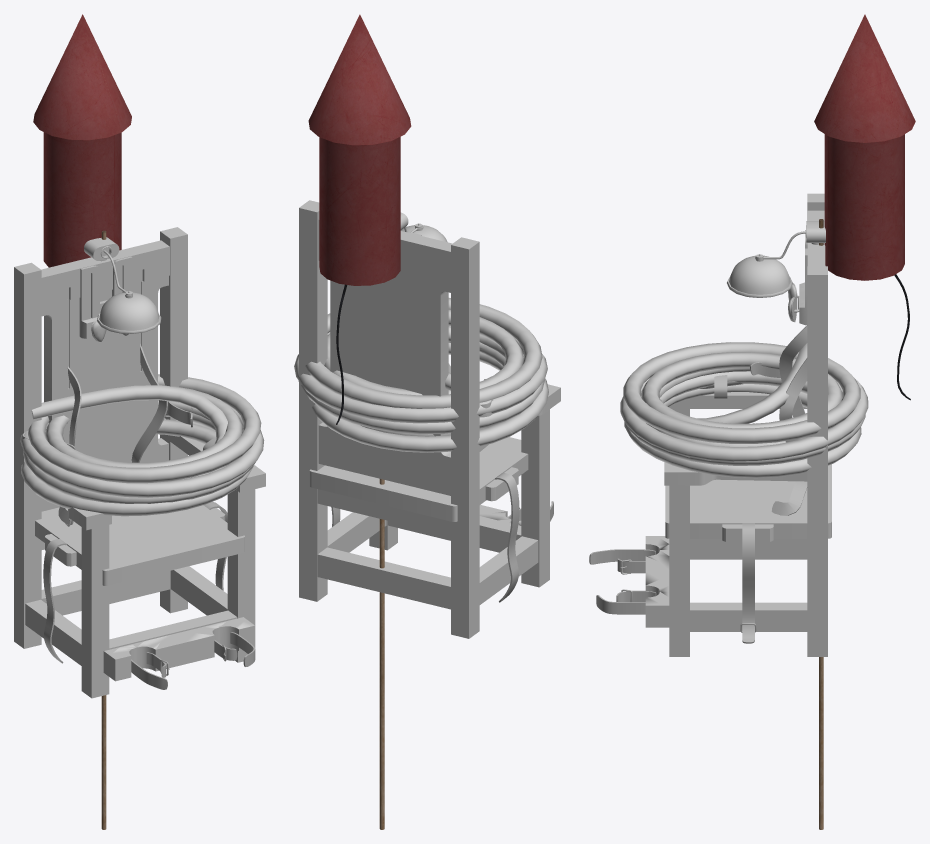
Rendered from RocketChair.fbx.
3 renders of one model, left to right at view 1: azimuth 30°, elevation 25°; view 2: azimuth 150°, elevation 25°; view 3: azimuth 270°, elevation 25°, orthographic. The views are drawn at different scales.
Visible parts, largest first — view 1: Electric_Chair, rope, rckt.002; view 2: Electric_Chair, rckt.002, rope; view 3: Electric_Chair, rope, rckt.002.
Part boxes in pixels (<box>): Electric_Chair: <box>14,227,265,698</box>; rope: <box>20,374,264,516</box>; rckt.002: <box>33,14,131,829</box>; Electric_Chair: <box>299,200,560,638</box>; rckt.002: <box>308,14,411,829</box>; rope: <box>294,298,548,452</box>; Electric_Chair: <box>589,193,831,656</box>; rope: <box>620,342,868,478</box>; rckt.002: <box>814,14,915,829</box>.
Bounding box in the file's own units: 96.92 × 350 × 127.
